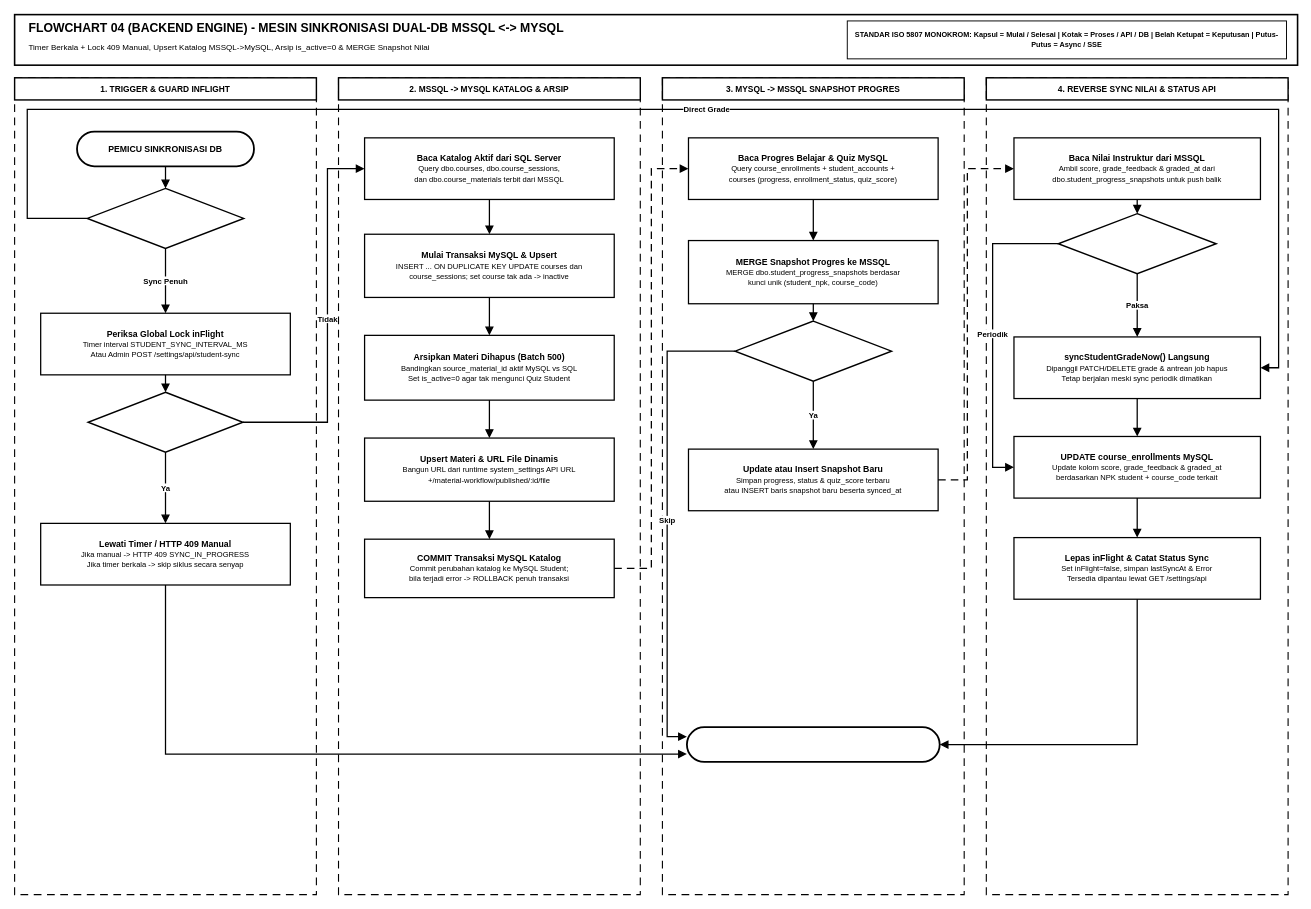
Some shapes in this 1311 by 909 pixel diagram are drawn without their labels. The centre of each missing label's shape, as x and y in pixels:
"DUAL-DB MSSQL & MYSQL KONSISTEN" goes at point 813,744.
"Jalur Reverse Sync: Periodik vs Paksa?" goes at point 1137,243.
"Proses Sinkron Sedang inFlight?" goes at point 165,422.
"Sumber Pemicu: Timer vs Manual?" goes at point 165,218.
"Timestamp MySQL >= Snapshot SQL?" goes at point 813,350.
